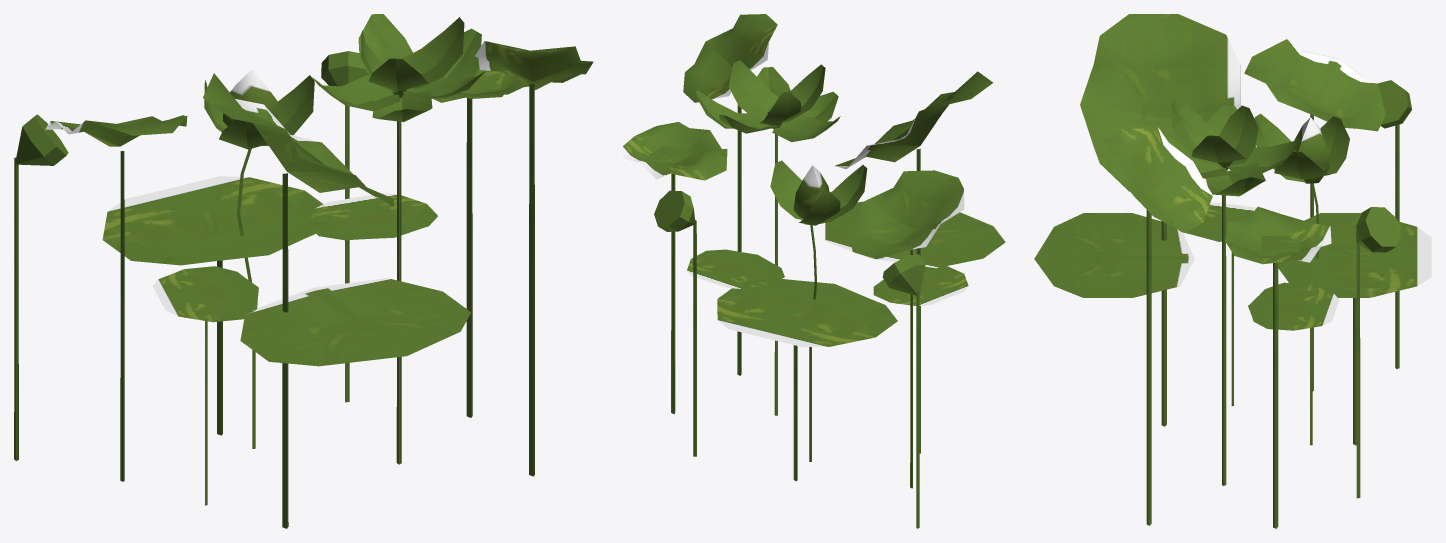
The model's file is City_bujian_50.fbx.
The picture shows the model from 3 angles, left to right: view 1: azimuth 30°, elevation 25°; view 2: azimuth 150°, elevation 25°; view 3: azimuth 270°, elevation 25°; orthographic projection. The views are drawn at different scales.
Parts seen in each view (by area): view 1: group9; view 2: group9; view 3: group9.
Part boxes in pixels (left/top/right/bottom): group9: left=14, top=14, right=593, bottom=528; group9: left=622, top=14, right=1005, bottom=528; group9: left=1034, top=14, right=1431, bottom=528.
Bounding box in the file's own units: 17.13 × 16.38 × 15.43.
